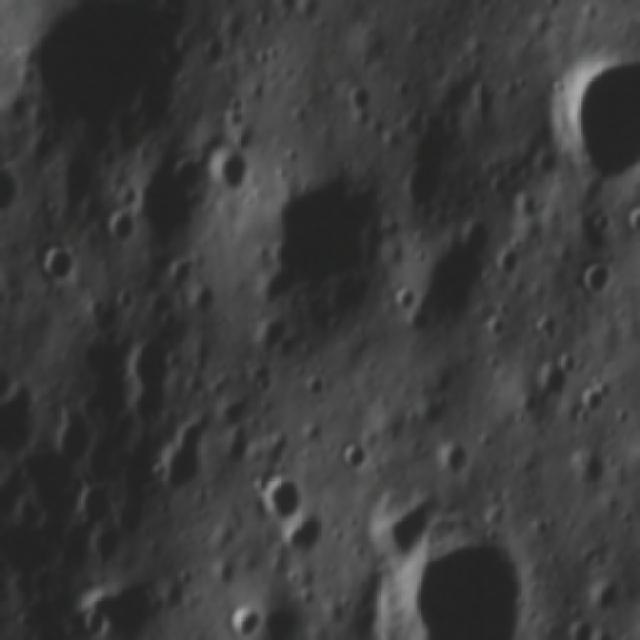crater: (17, 0, 188, 137), (363, 524, 534, 640), (257, 168, 388, 307), (549, 46, 640, 197), (116, 325, 190, 430), (143, 430, 214, 502), (47, 400, 105, 474), (0, 375, 46, 459), (244, 466, 305, 523), (532, 348, 577, 406), (73, 478, 119, 533), (210, 145, 256, 197), (34, 241, 80, 285), (576, 256, 615, 307), (223, 600, 271, 640), (96, 205, 139, 249), (584, 571, 625, 614), (331, 438, 371, 480), (184, 277, 222, 317), (0, 159, 25, 218), (569, 612, 620, 640), (74, 606, 114, 640), (198, 33, 232, 69), (26, 617, 76, 640), (344, 80, 378, 112)
